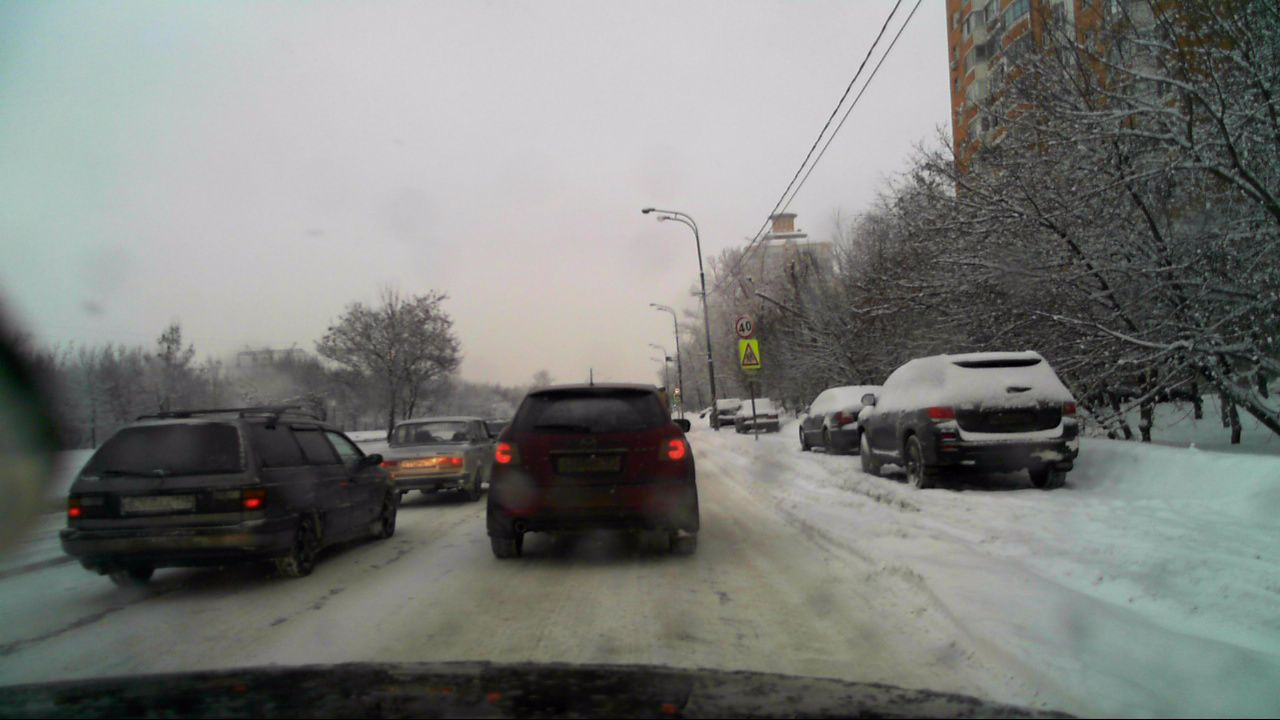speed_warning_40: (731, 315, 754, 338)
